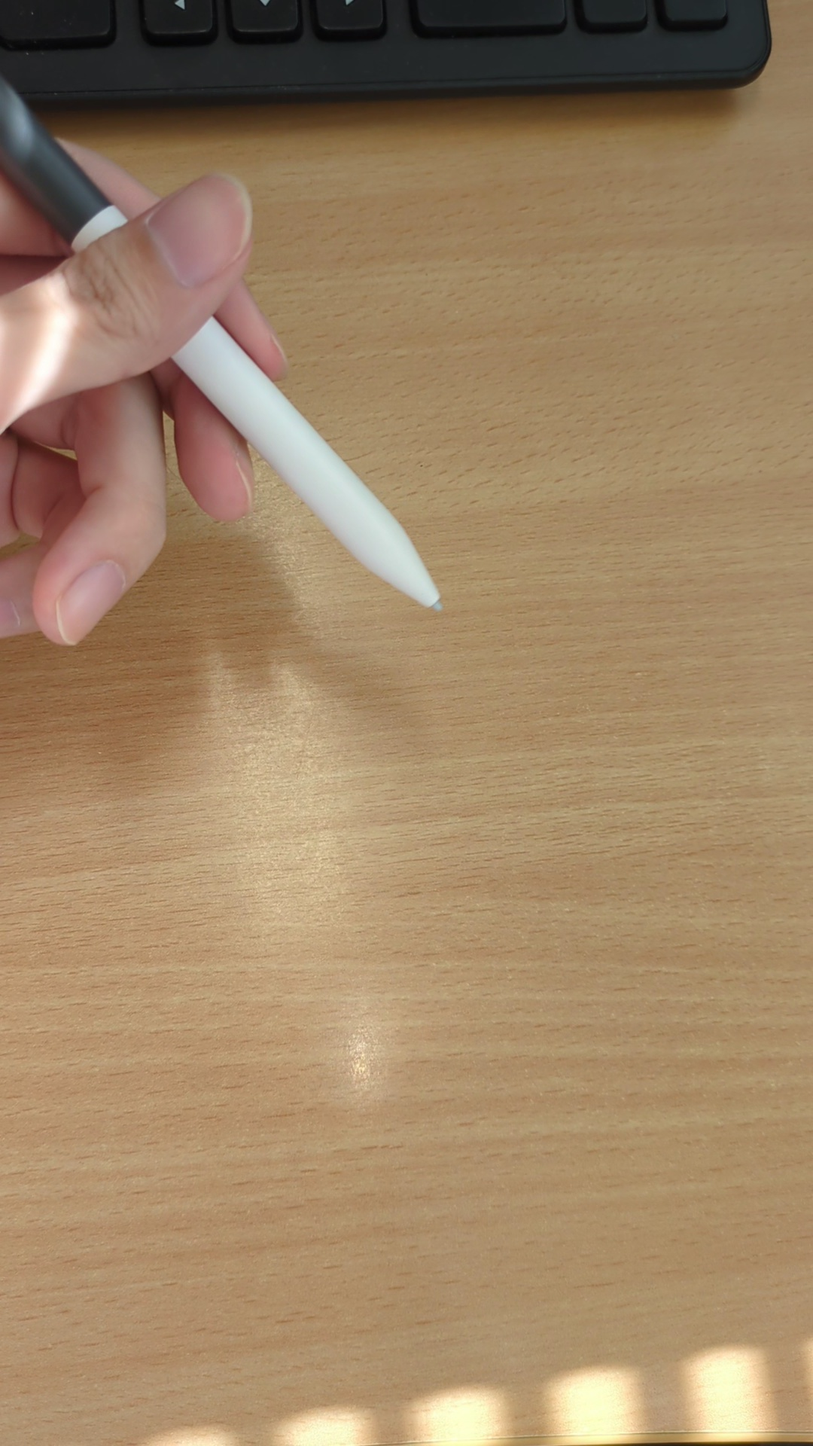pen: (5, 72, 450, 619)
tip: (356, 518, 452, 624)
